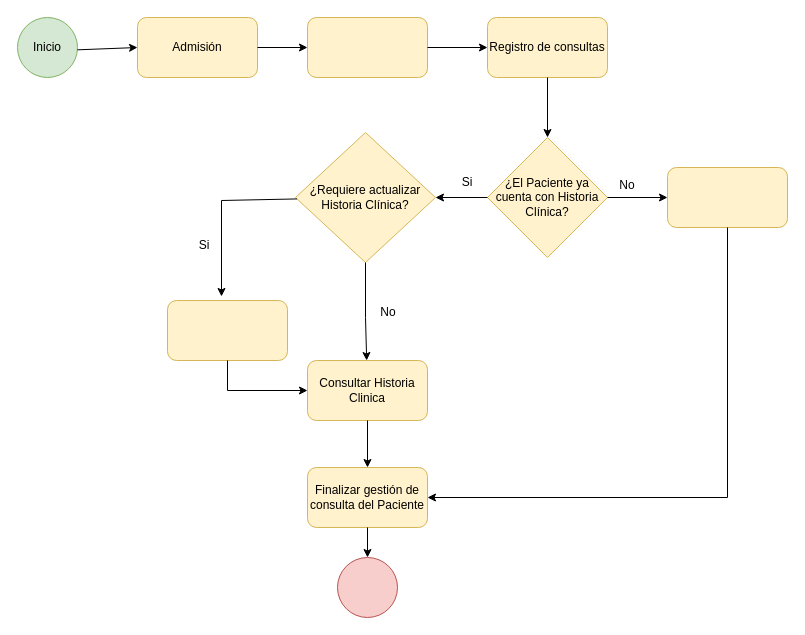
Image size: 805x635. Some labels were removed from this diagram. The centre of each missing label's shape, as x and y in pixels:
"Actualizar Historia Clinica" goes at [227,330].
"Crear Historia Clinica" goes at [727,197].
"Fin" goes at [367,587].
"Toma de Signos Vitales" goes at [367,47].
